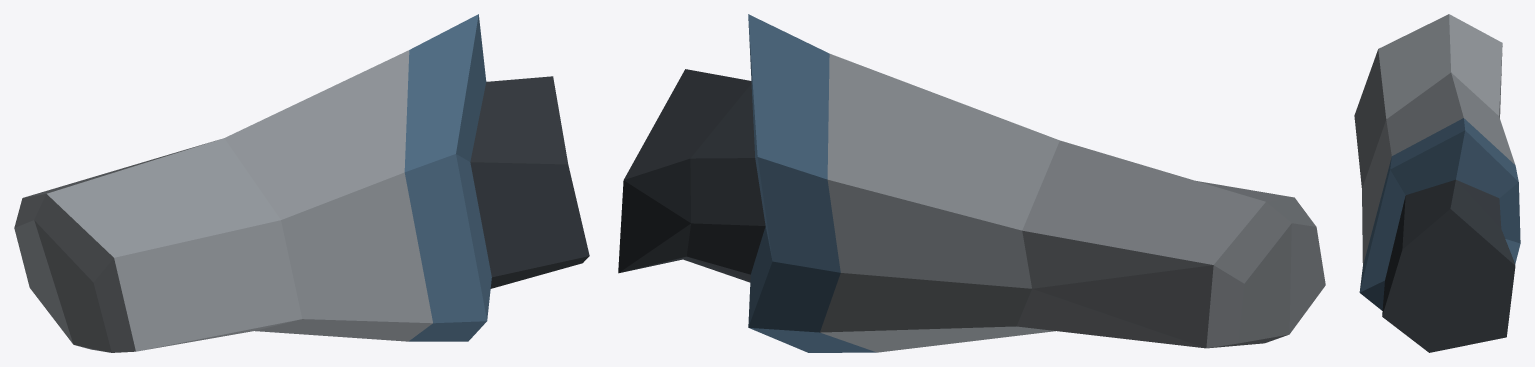
The model's file is Chr_ArmLowerRight_Female_07_Static.fbx.
3 views of the same model, side by side, from view 1: azimuth 30°, elevation 25°; view 2: azimuth 150°, elevation 25°; view 3: azimuth 270°, elevation 25° (orthographic). The views are drawn at different scales.
Visible parts, largest first — view 1: Chr_ArmLowerRight_Female_07_Static; view 2: Chr_ArmLowerRight_Female_07_Static; view 3: Chr_ArmLowerRight_Female_07_Static.
Part boxes in pixels (<box>): Chr_ArmLowerRight_Female_07_Static: <box>14,14,589,352</box>; Chr_ArmLowerRight_Female_07_Static: <box>618,14,1325,352</box>; Chr_ArmLowerRight_Female_07_Static: <box>1354,14,1520,352</box>.
Size of the model in its own units: 0.2944 by 0.1566 by 0.1013.
